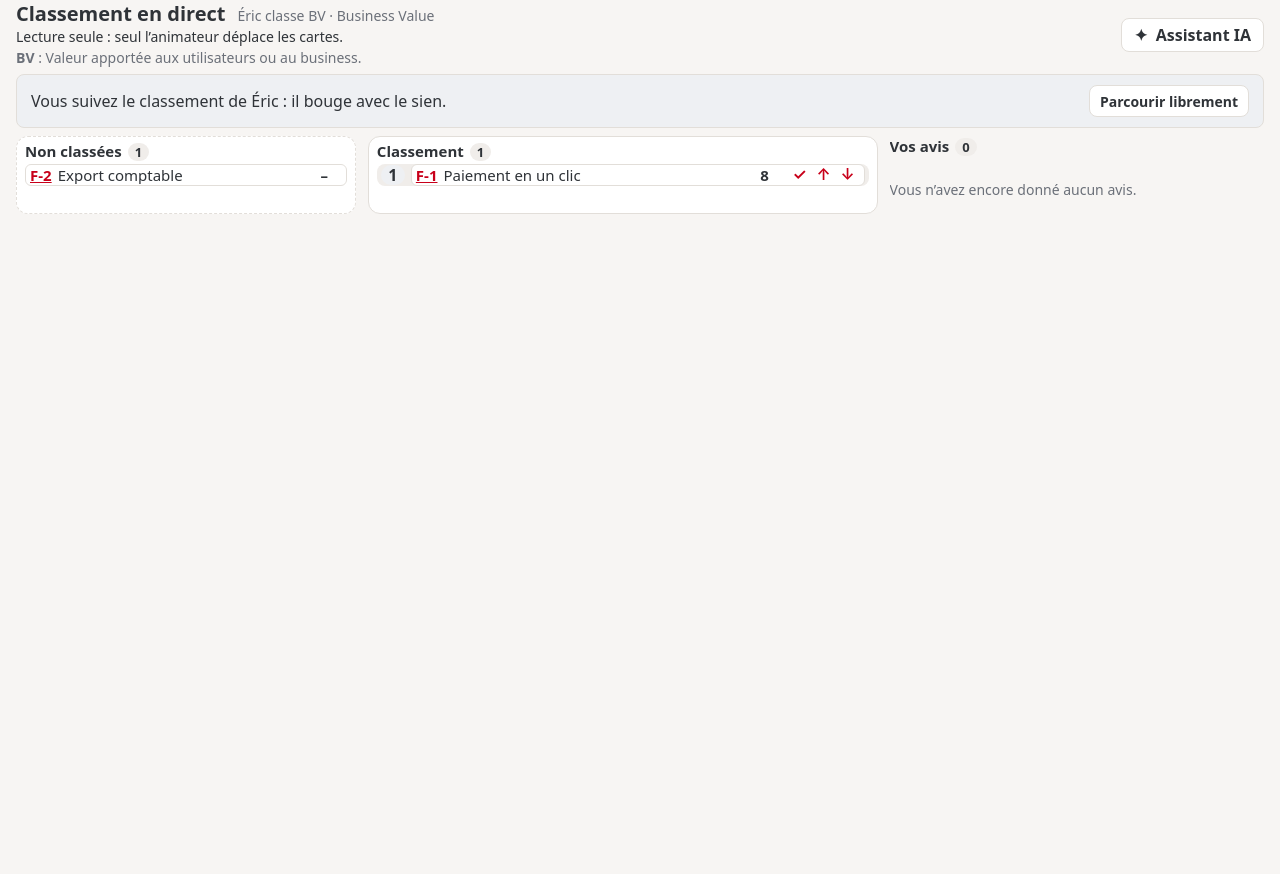
Test case: LiveRankingViewComponent › shows the participant the AI assistant preview on demand, beside their opinions
Click the button with class "assistant-toggle". click: (1193, 34)
box: [1121,18,1264,52]
(page scrolled)
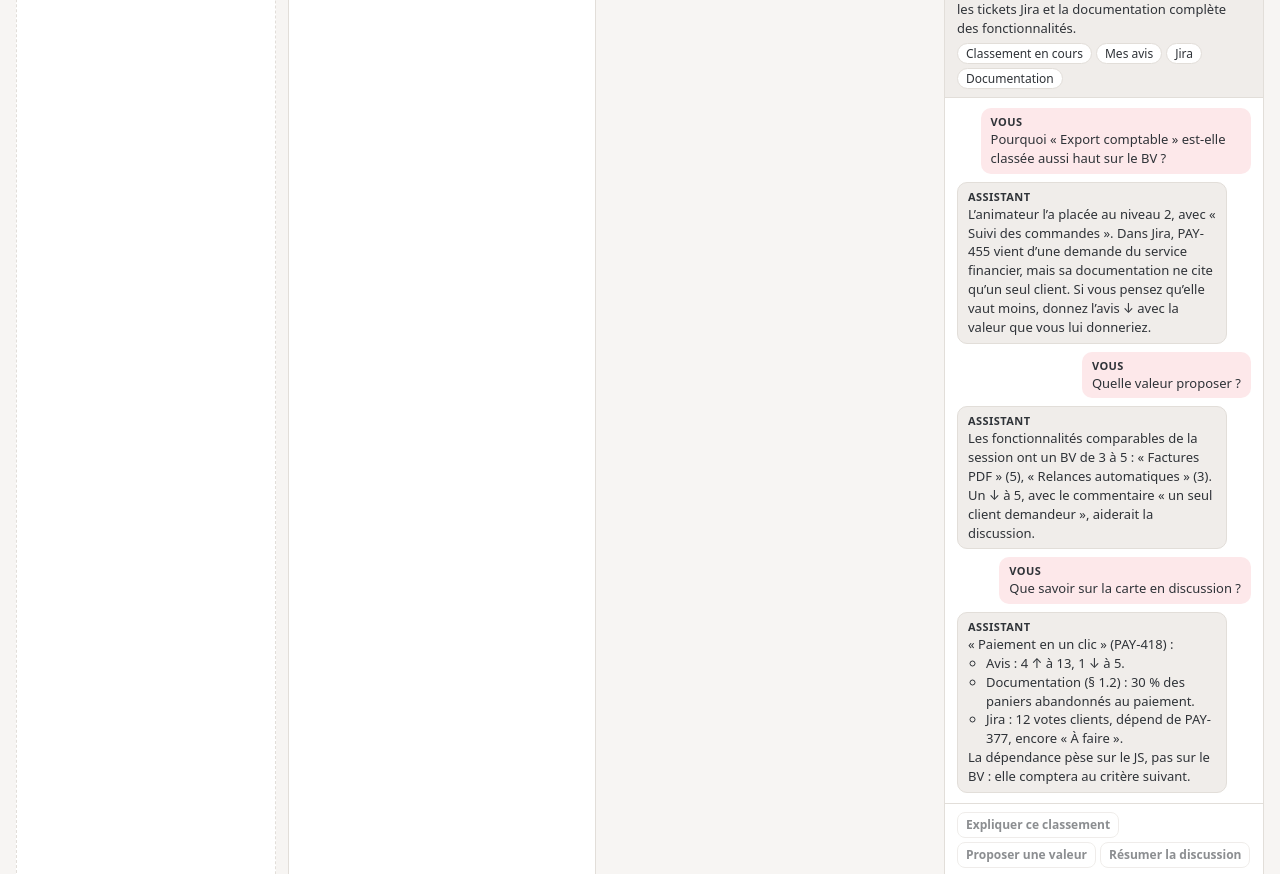
Check: the element named "Assistant IA de priorisation (aperçu, pas encore disponible)" shows "Mes avis", box [1105,45,1153,62]
